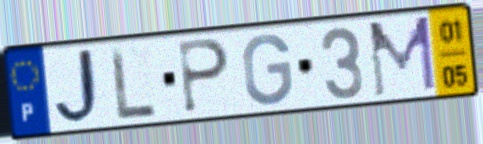3: (319, 24, 365, 101)
G: (240, 31, 295, 108)
J: (52, 45, 108, 129)
L: (107, 45, 159, 124)
M: (365, 13, 439, 101)
P: (176, 37, 232, 116)
